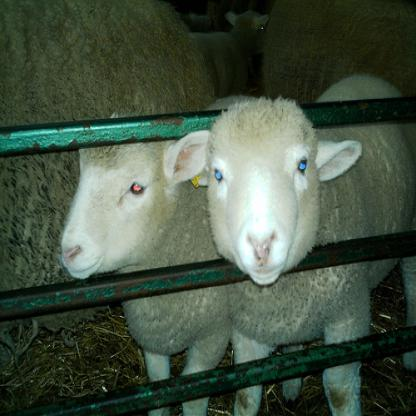sheep: (162, 73, 415, 415), (0, 0, 215, 347), (60, 130, 230, 415), (262, 0, 416, 104), (190, 0, 268, 98)
